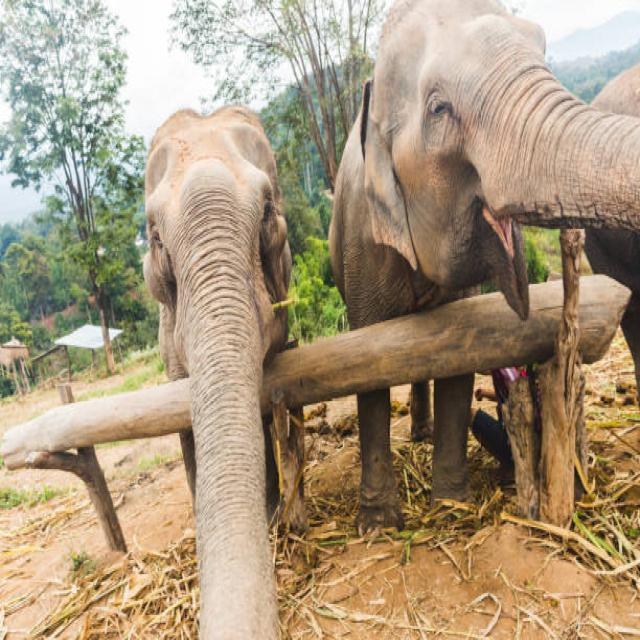Elephant: (329, 0, 640, 527), (134, 91, 328, 640)
